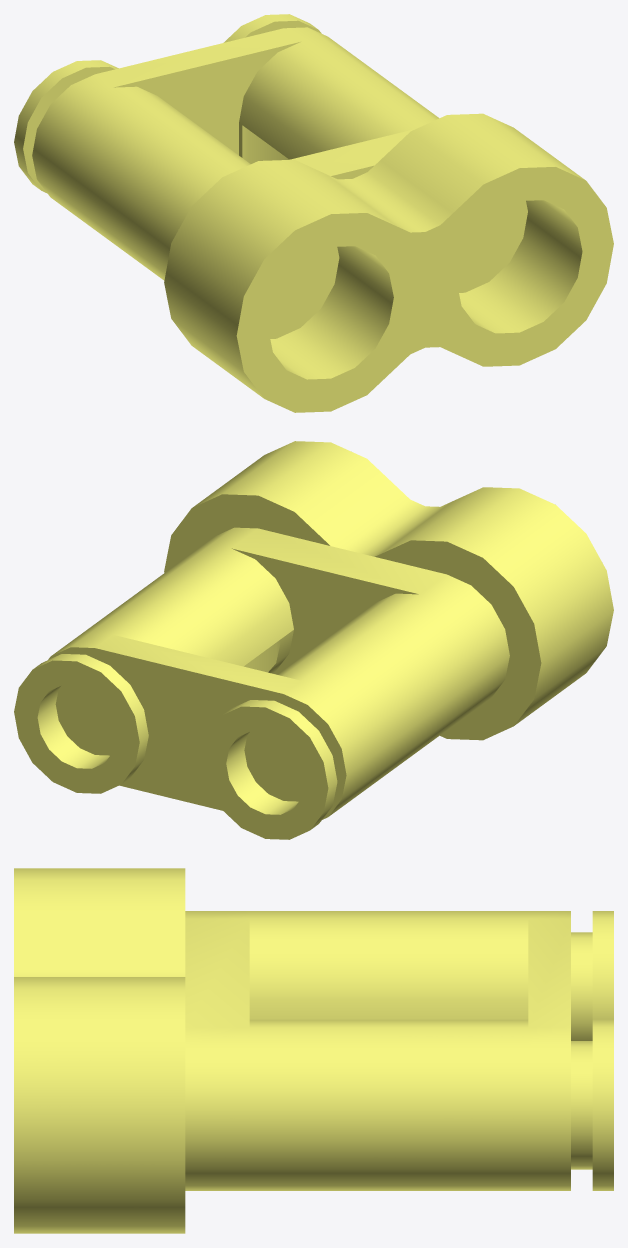
3 renders of one model, top to bottom at view 1: azimuth 30°, elevation 25°; view 2: azimuth 150°, elevation 25°; view 3: azimuth 270°, elevation 25°, orthographic. The views are drawn at different scales.
Visible parts, largest first — view 1: 30162.dat; view 2: 30162.dat; view 3: 30162.dat.
Part boxes in pixels (x1,y1,x2,y2): 30162.dat: (14, 14, 613, 412); 30162.dat: (14, 441, 613, 839); 30162.dat: (14, 868, 613, 1233).
Bounding box in the file's own units: 0.0096 × 0.0048 × 0.0112.
